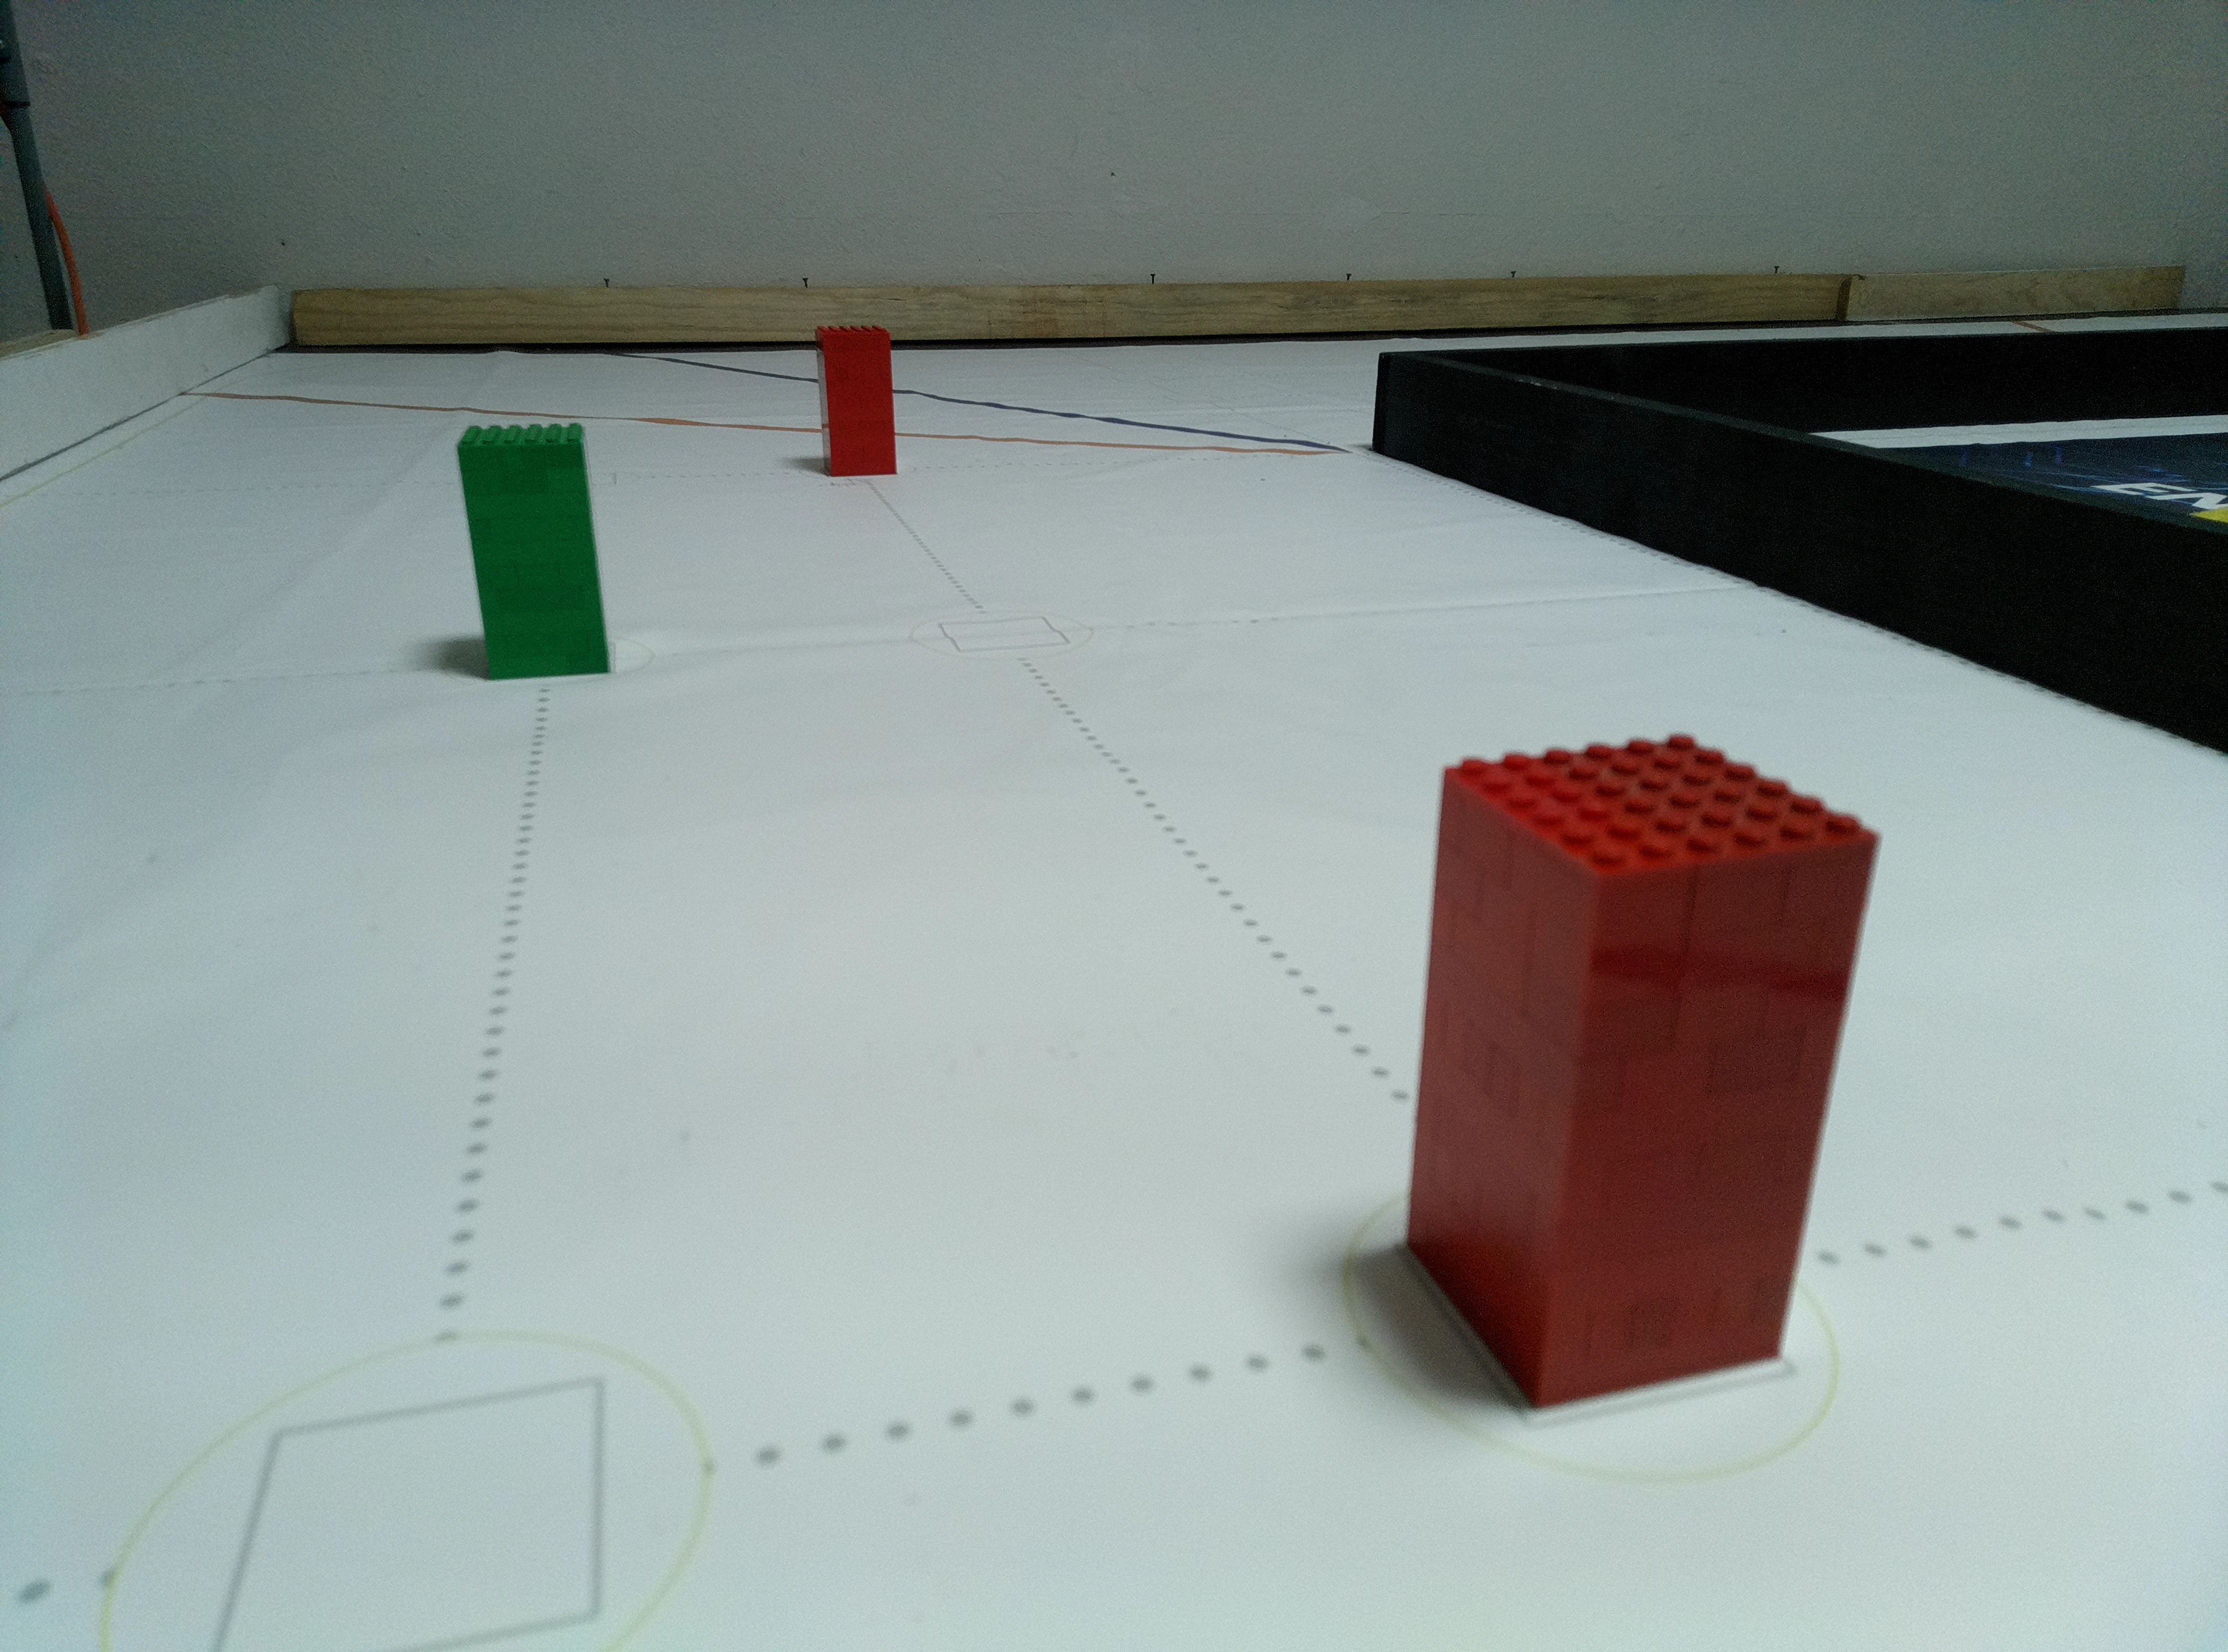greenbox: (455, 420, 614, 682)
redbox: (1400, 734, 1888, 1413), (812, 324, 899, 477)
